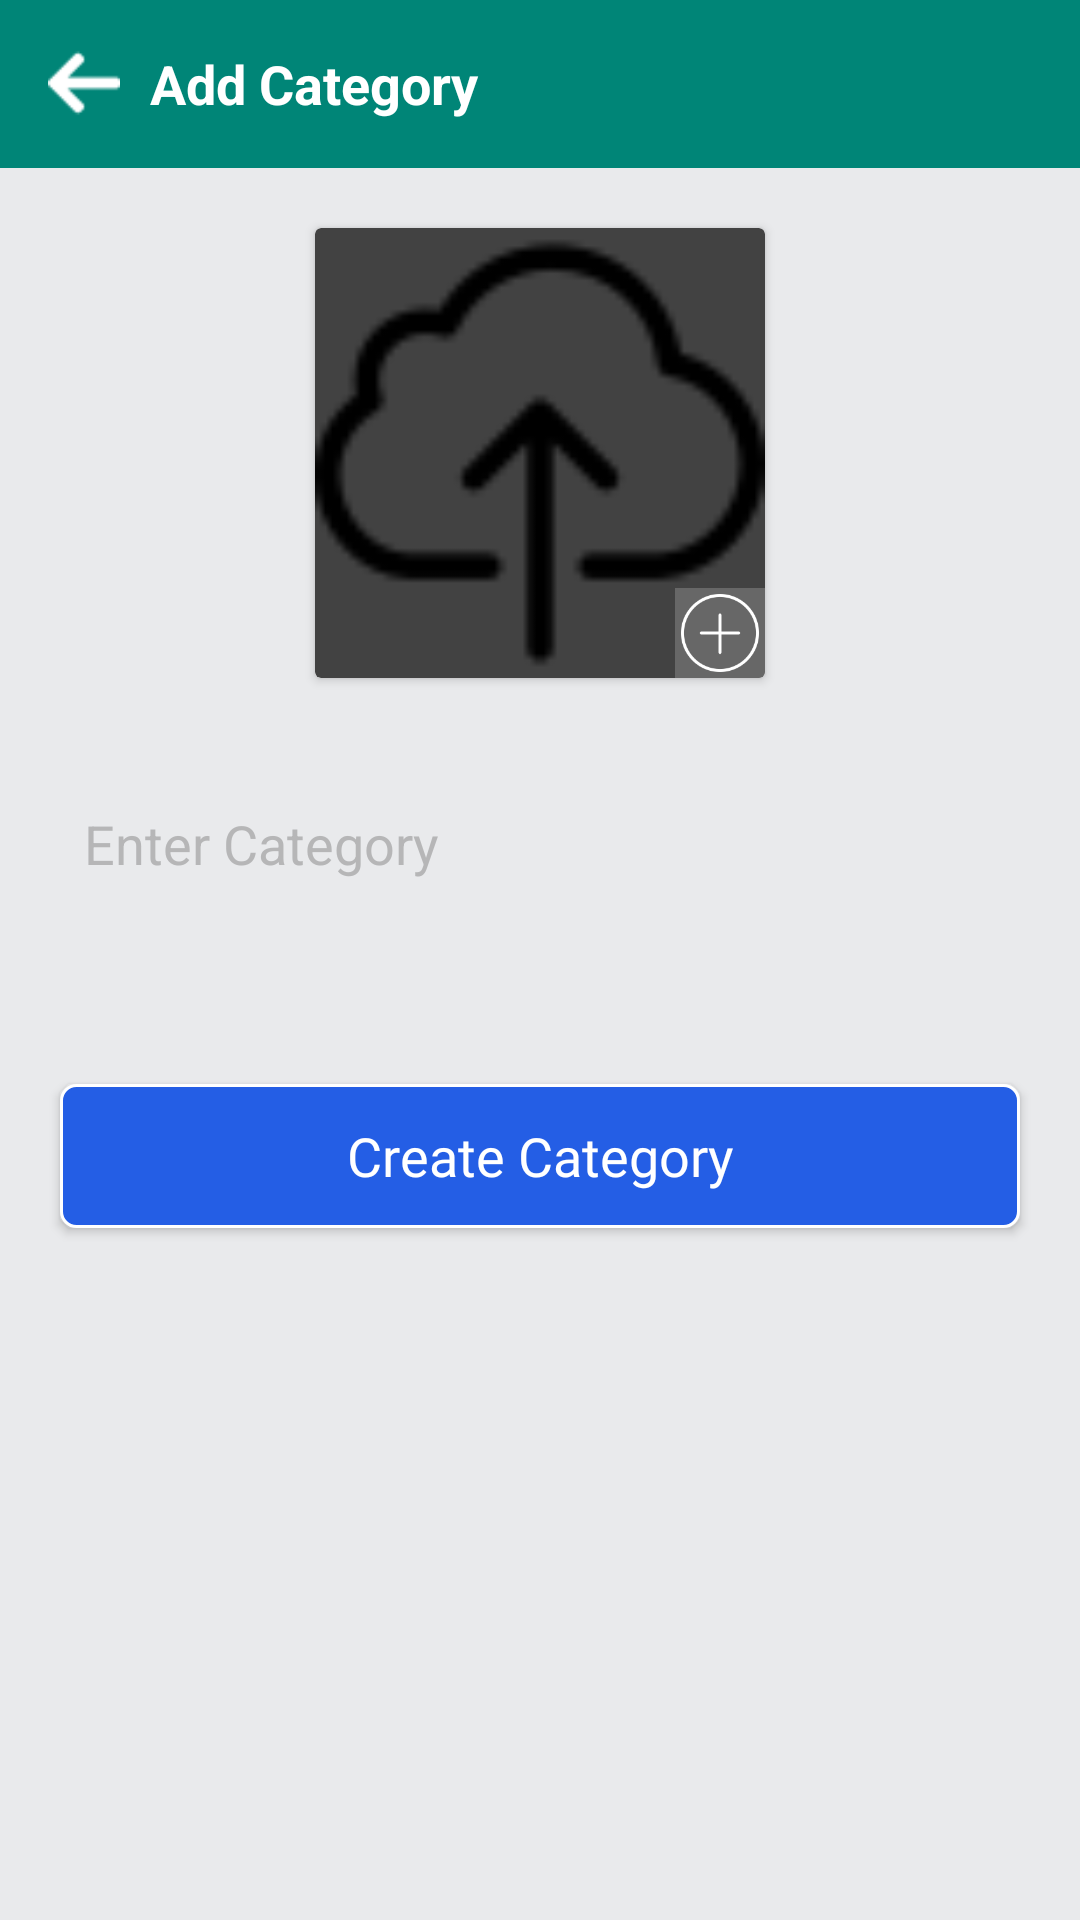

Icons on this 1080 × 1920 Android screen, each with its box as box(x1, y1, x2, y2):
back arrow: box(48, 51, 120, 115)
